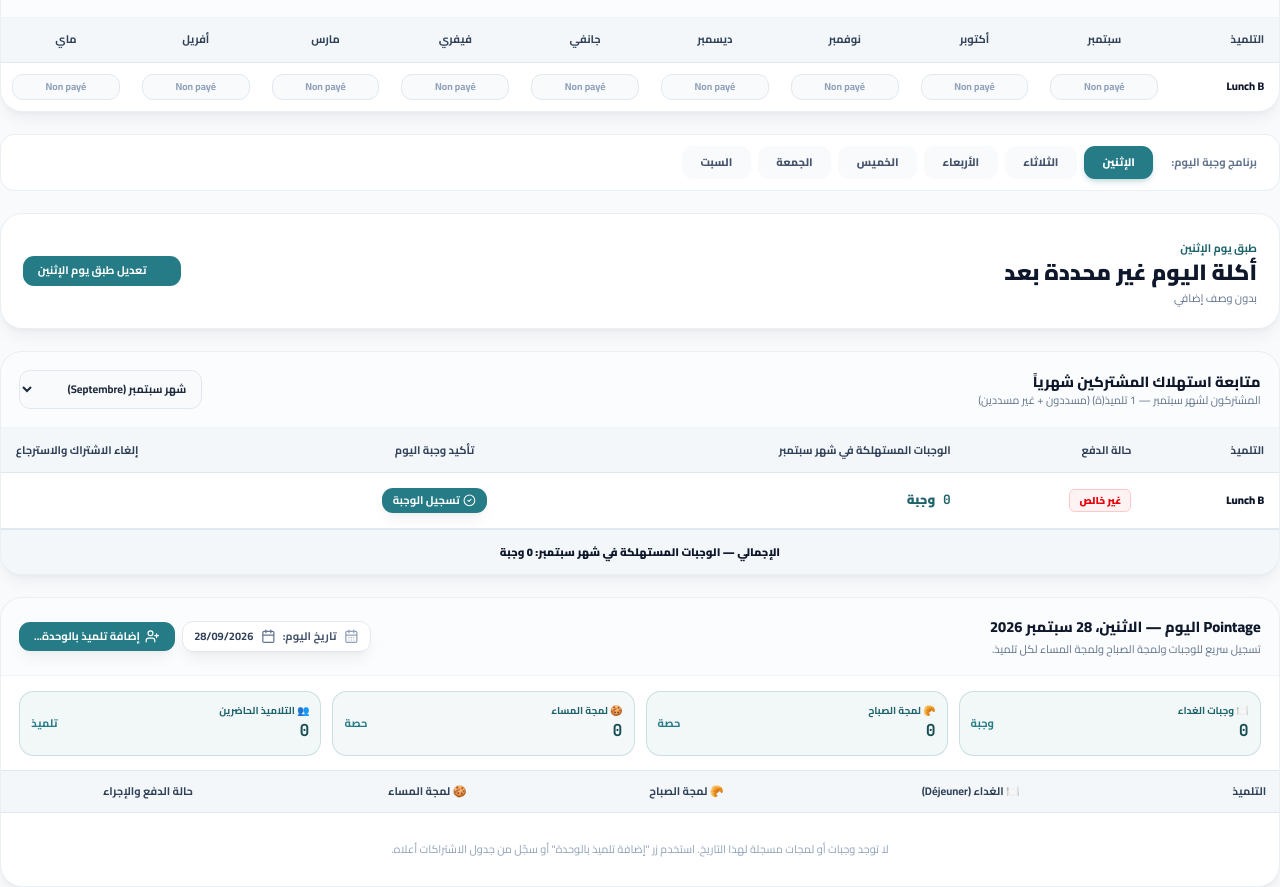
it: MealsModule — revision D remarks › remark M3: the unit-meal modal starts with all three service toggles disabled before selection
(page scrolled)
Click the button "إضافة تلميذ بالوحدة...": (97, 637) [19,622,175,651]
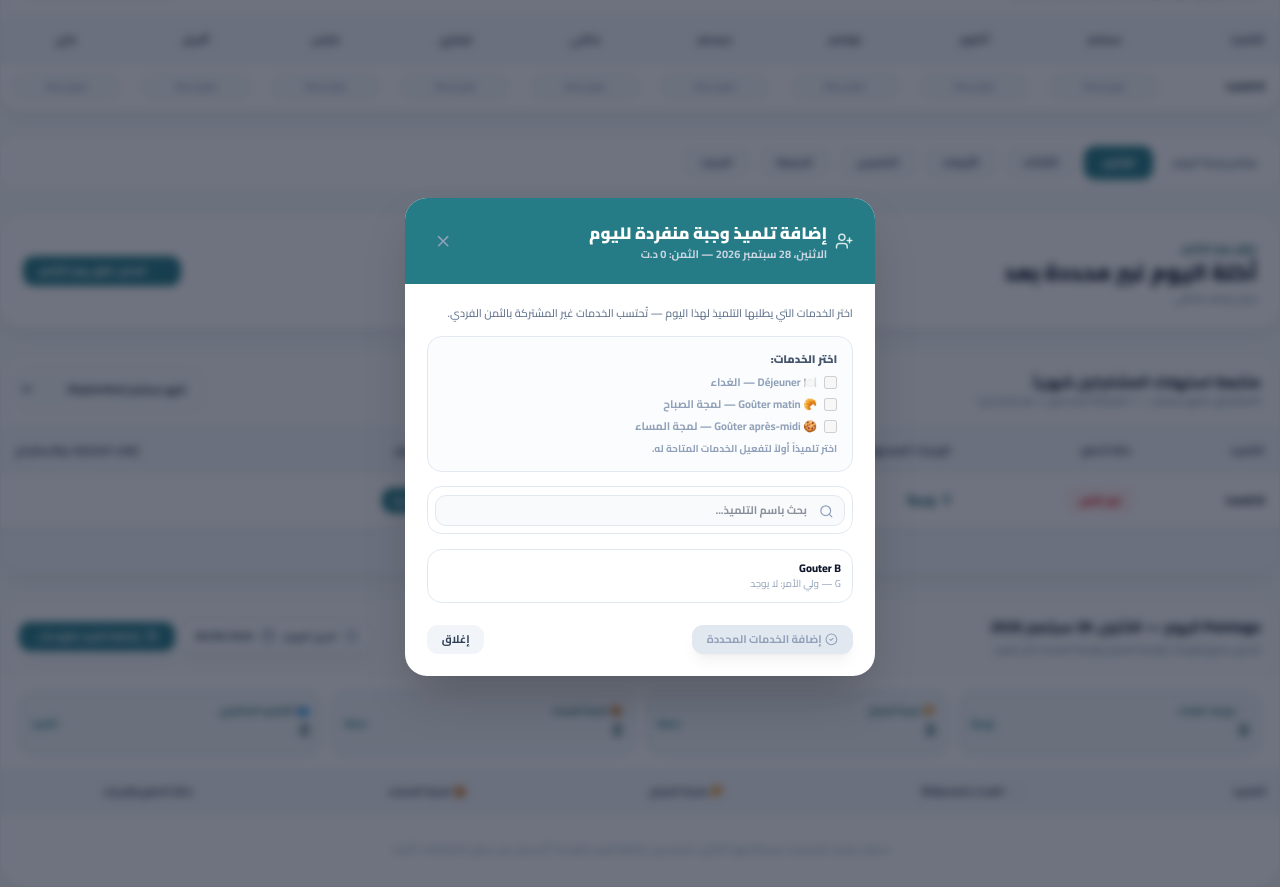
Result: the checkbox with test id "unit-service-toggle-lunch" is disabled at [824,376,837,389]
Result: the checkbox with test id "unit-service-toggle-gouter_matin" is disabled at [824,398,837,411]
Result: the checkbox with test id "unit-service-toggle-gouter_apres_midi" is disabled at [824,420,837,433]
